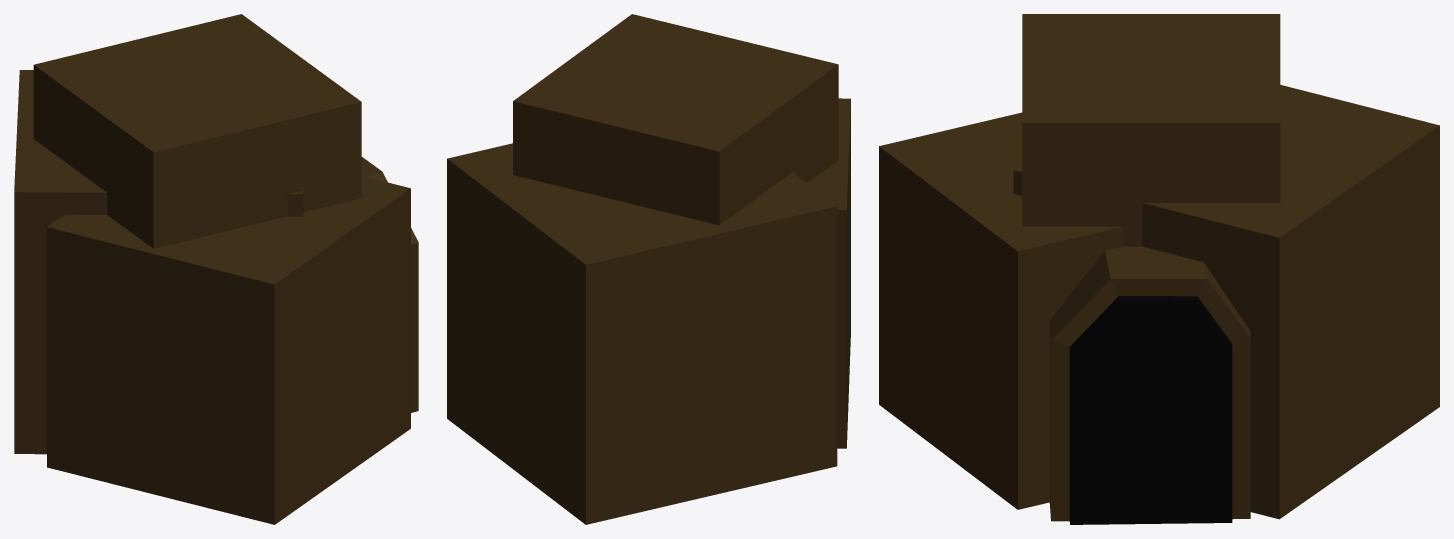
The model's file is Den.fbx.
The picture shows the model from 3 angles, left to right: view 1: azimuth 30°, elevation 25°; view 2: azimuth 150°, elevation 25°; view 3: azimuth 270°, elevation 25°; orthographic projection. The views are drawn at different scales.
Visible parts, largest first — view 1: Den; view 2: Den; view 3: Den.
Part boxes in pixels (<box>): Den: <box>14,14,418,524</box>; Den: <box>447,14,850,524</box>; Den: <box>879,14,1439,524</box>.
Size of the model in its own units: 197 by 140 by 155.
